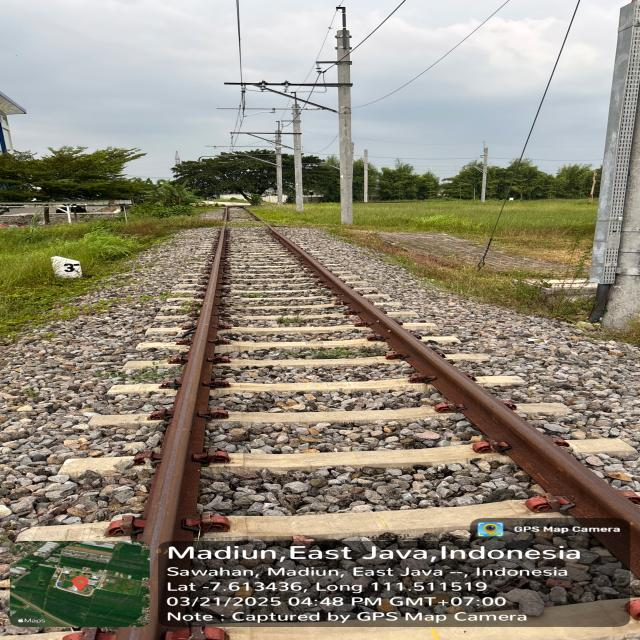rail-detection: (271, 229, 640, 574), (116, 228, 227, 640)
